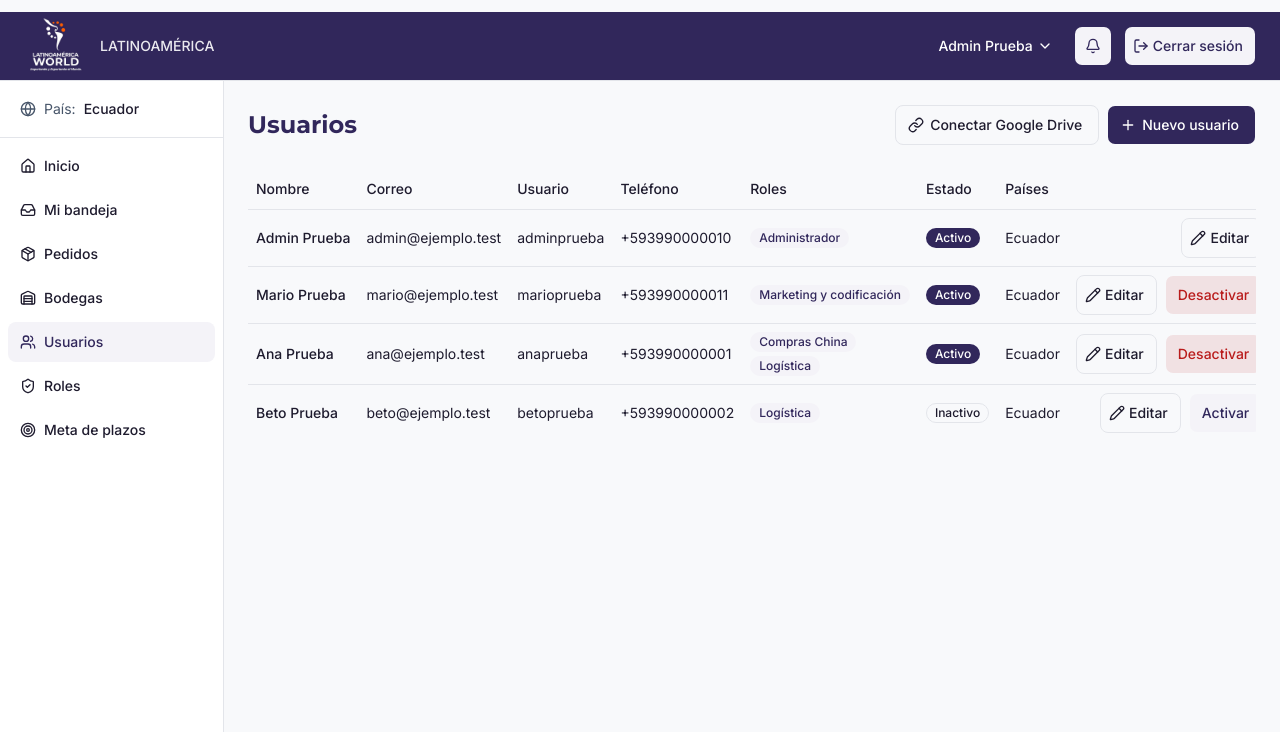
it: Conexión con Google Drive desde Usuarios › respeta el 403 del servidor y no navega
This screenshot has width=1280, height=732.
Click the button "Conectar Google Drive" at (997, 125), box top-left (895, 105), bottom-right (1099, 145)
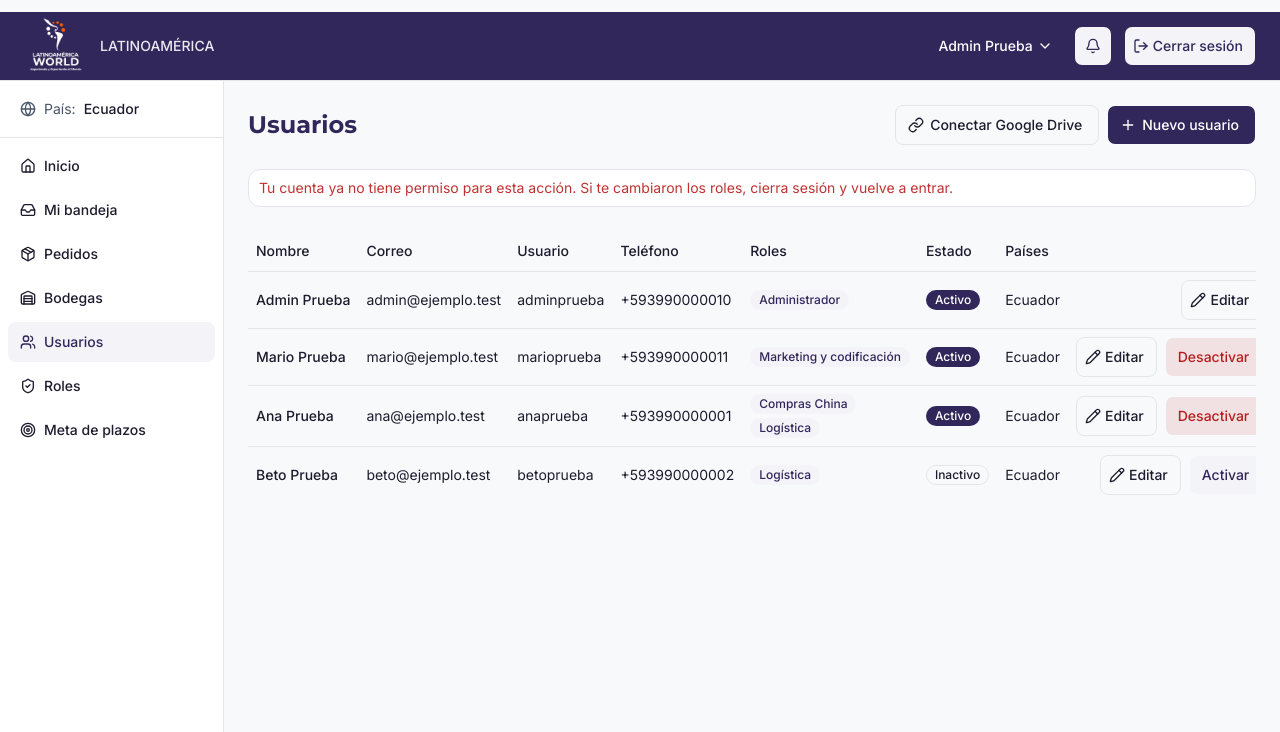
Expected: the message is shown, top-left (248, 169), bottom-right (1256, 207)
